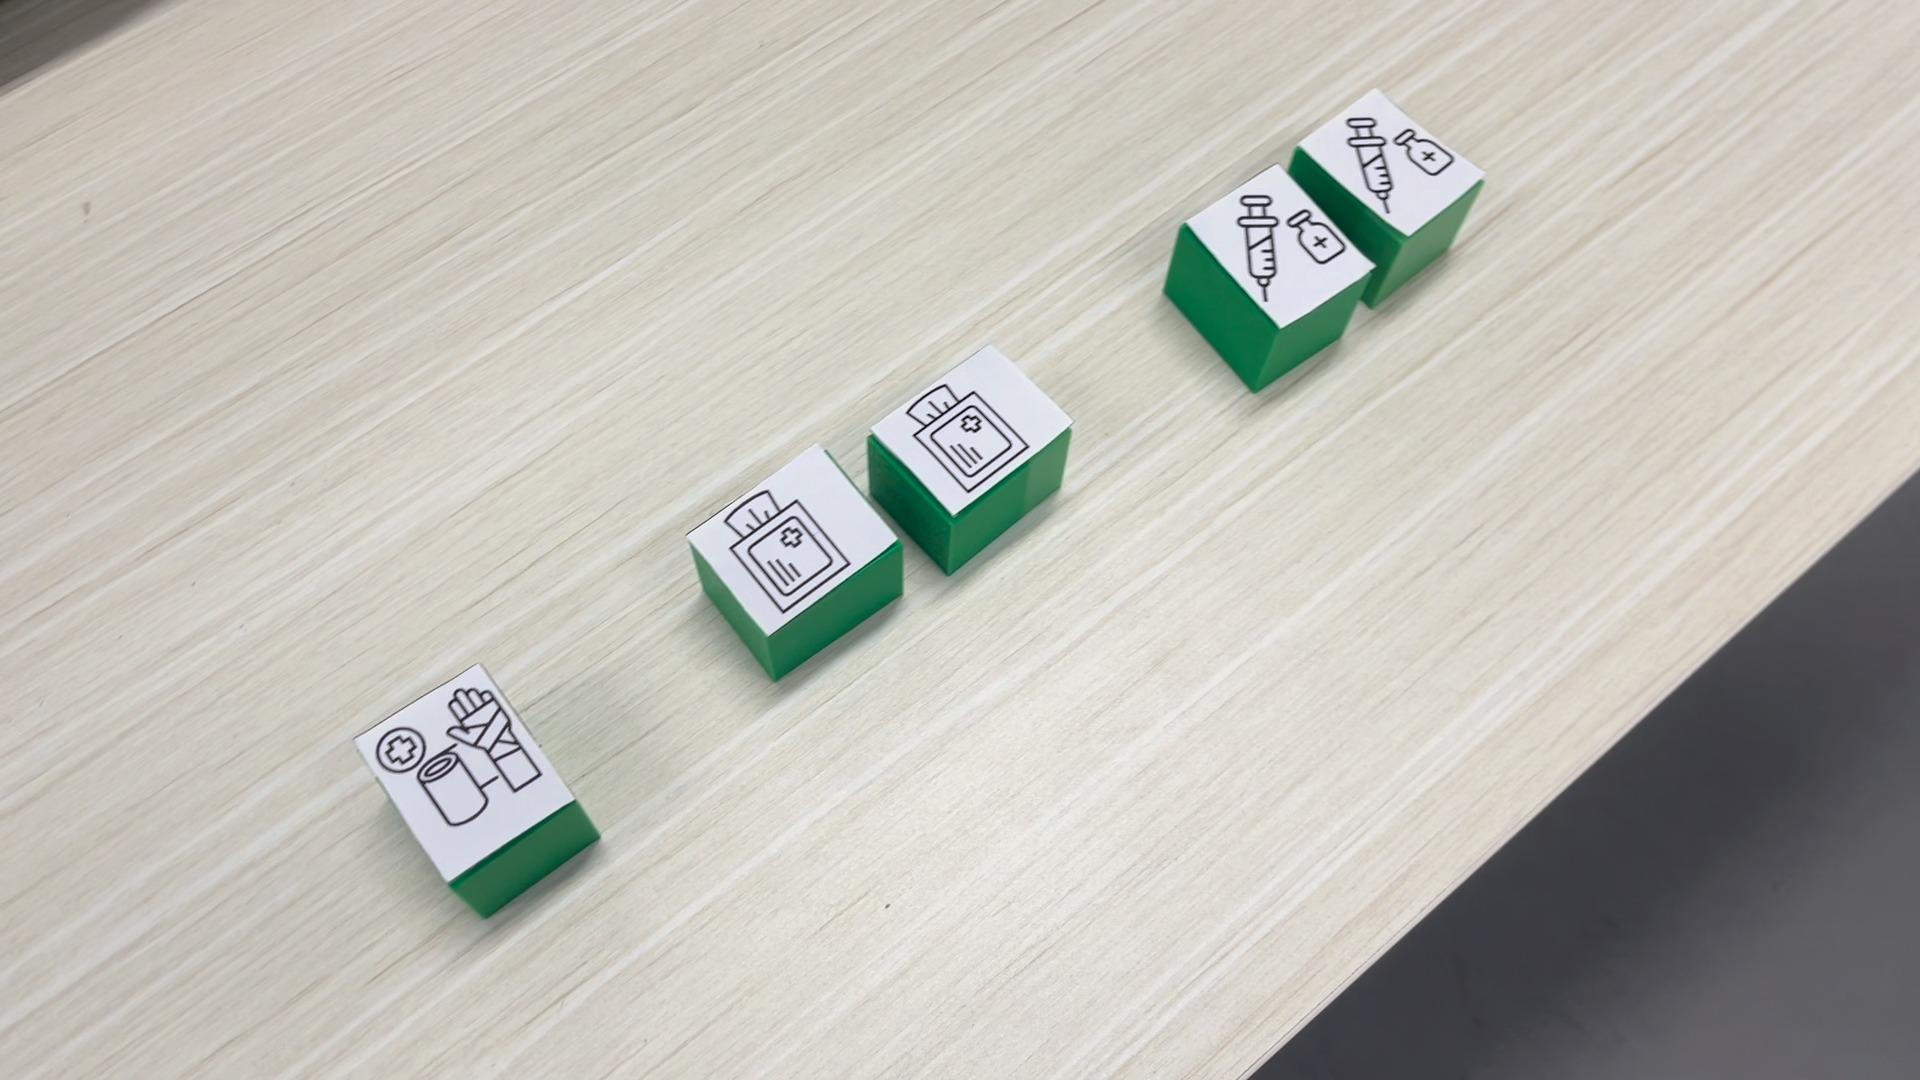Bandages: (345, 661, 599, 918)
Gauze: (684, 442, 906, 683), (870, 342, 1072, 574)
antiseptic cream: (1160, 164, 1374, 396), (1299, 90, 1487, 237)
